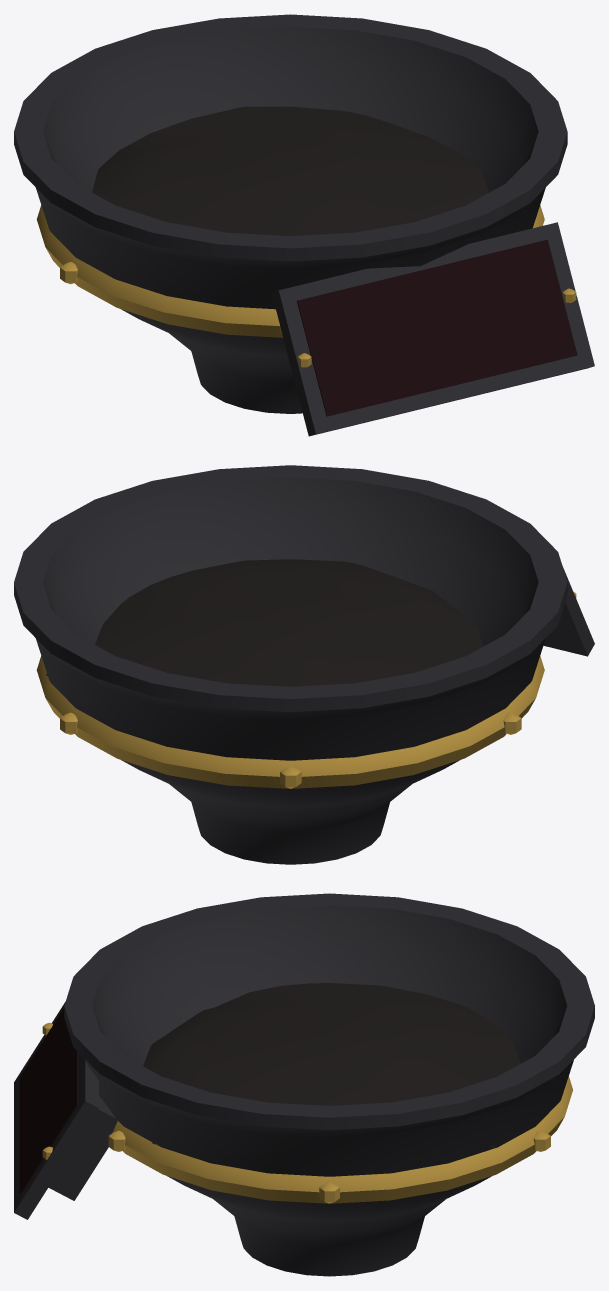
File: brazier.glb
3 renders of one model, top to bottom at view 1: azimuth 30°, elevation 25°; view 2: azimuth 150°, elevation 25°; view 3: azimuth 270°, elevation 25°, orthographic. The views are drawn at different scales.
Parts seen in each view (by area): view 1: brazier; view 2: brazier; view 3: brazier.
Part boxes in pixels (x1=…): brazier: x1=14, y1=14, x2=594, y2=436; brazier: x1=14, y1=465, x2=594, y2=864; brazier: x1=14, y1=893, x2=594, y2=1276.
Bounding box in the file's own units: 0.268 × 0.13 × 0.2935.
